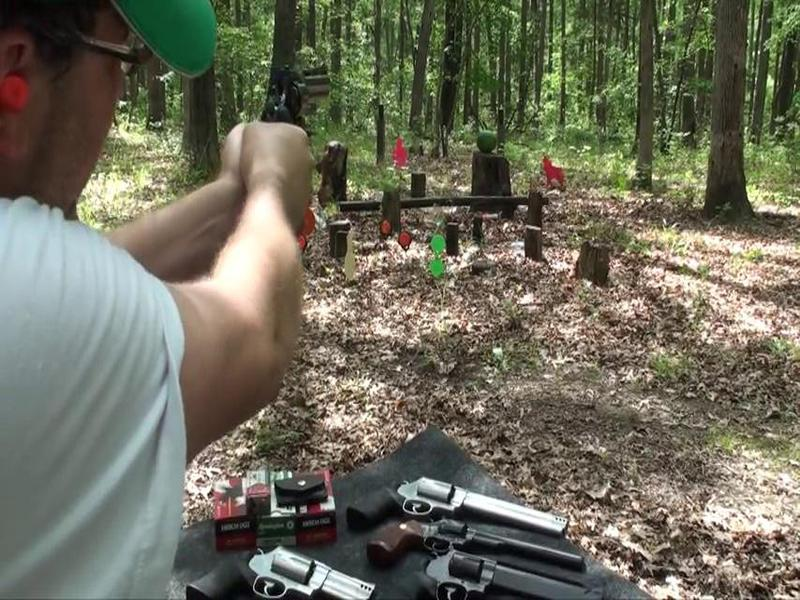Revolver: (256, 57, 349, 144)
